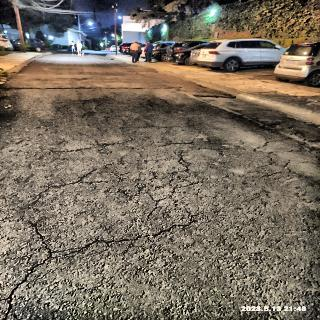alligator-crack: (118, 156, 208, 216), (246, 135, 320, 175)
crack: (44, 214, 200, 253), (2, 219, 55, 320), (28, 167, 106, 204), (51, 136, 135, 152), (159, 140, 198, 148)
